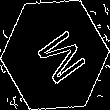M_SW: (25, 22, 85, 88)
